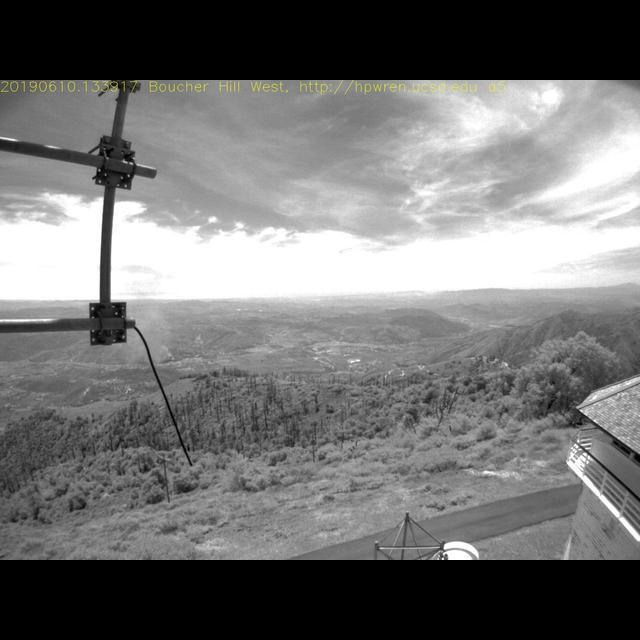Smoke: (130, 290, 184, 370)
